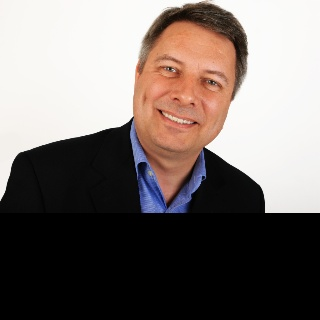without_mask: (130, 20, 234, 160)
